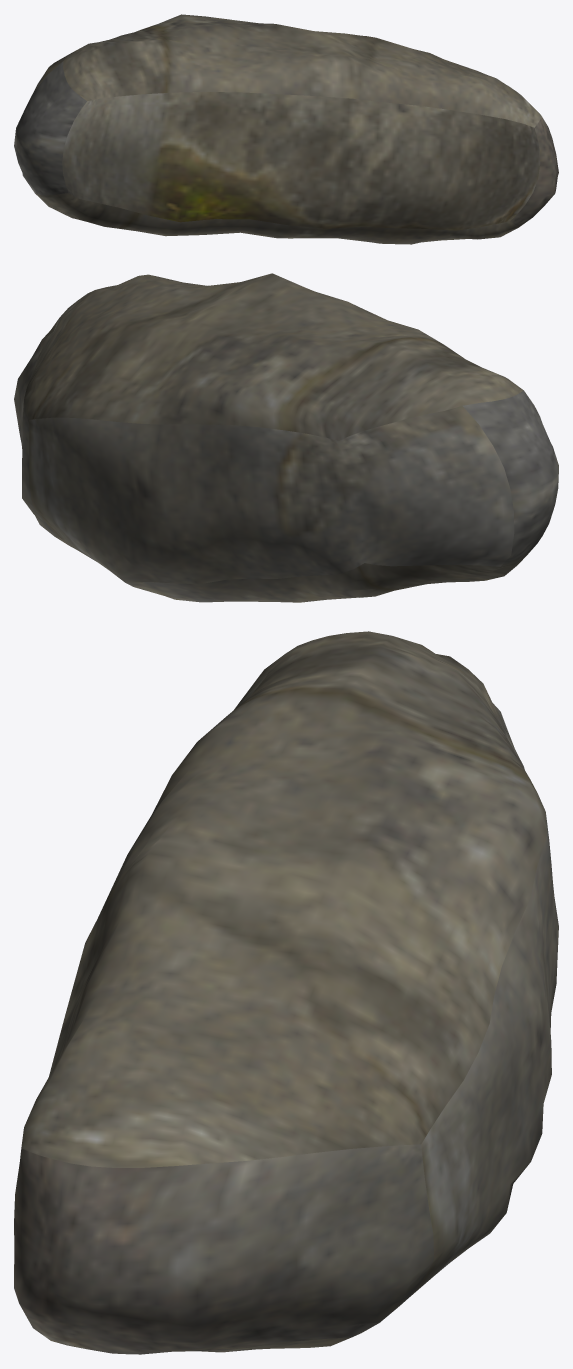
File: Rock5.fbx
3 renders of one model, top to bottom at view 1: azimuth 30°, elevation 25°; view 2: azimuth 150°, elevation 25°; view 3: azimuth 270°, elevation 25°, orthographic. The views are drawn at different scales.
Visible parts, largest first — view 1: Rock5; view 2: Rock5; view 3: Rock5.
Boxes of the visible parts, x1=… form: Rock5: x1=14, y1=14, x2=558, y2=244; Rock5: x1=14, y1=273, x2=558, y2=602; Rock5: x1=14, y1=631, x2=558, y2=1354.
Size of the model in its own units: 36.82 by 17.3 by 19.4.
